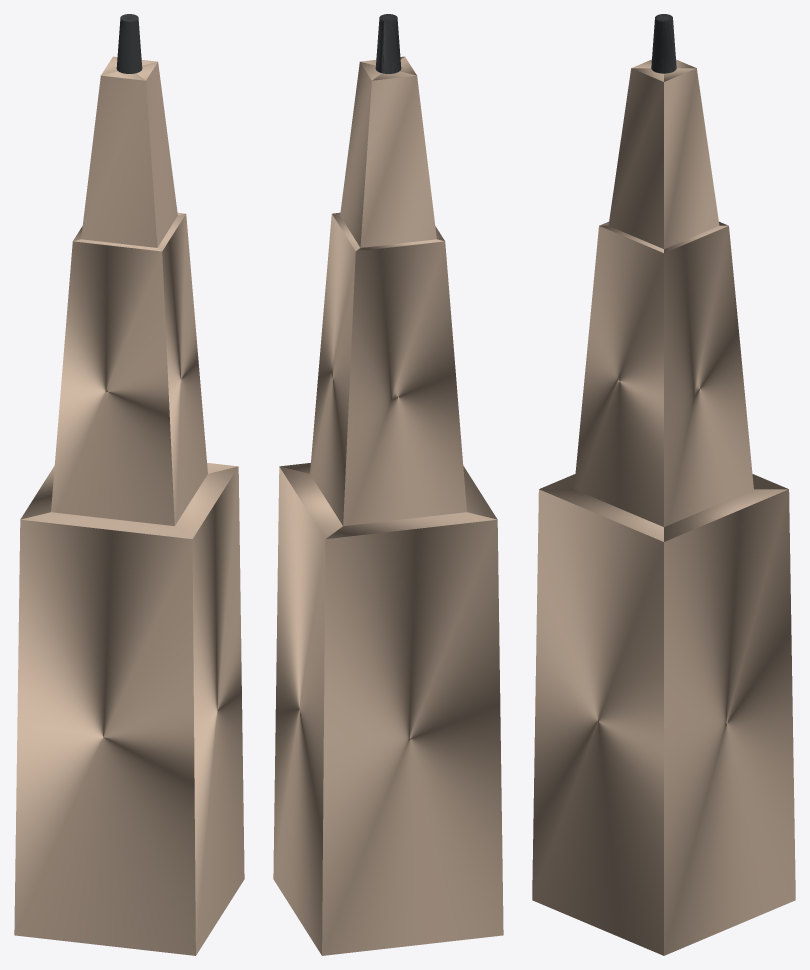
The model's file is Skyscraper.fbx.
3 renders of one model, left to right at view 1: azimuth 30°, elevation 25°; view 2: azimuth 150°, elevation 25°; view 3: azimuth 270°, elevation 25°, orthographic.
Visible parts, largest first — view 1: skyscraper; view 2: skyscraper; view 3: skyscraper.
Part boxes in pixels (box(x1,y1,x2,y2)): skyscraper: box(14, 14, 244, 955); skyscraper: box(273, 14, 503, 955); skyscraper: box(532, 14, 795, 955).
Bounding box in the file's own units: 55.09 × 203 × 55.09.
